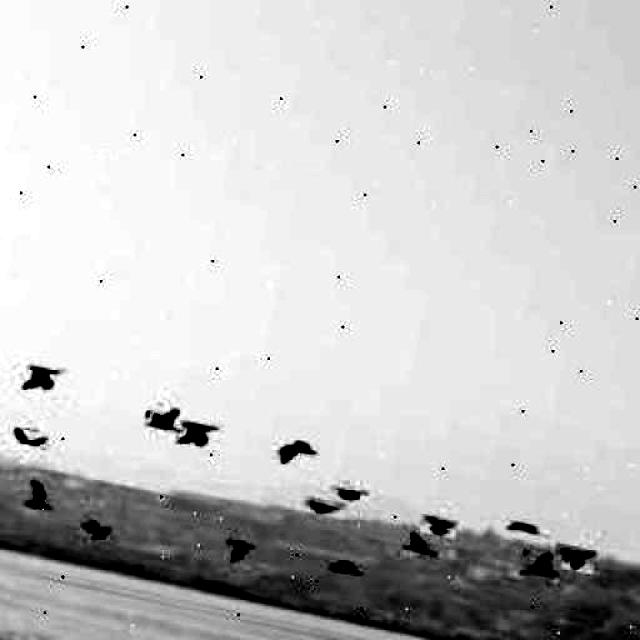airplane: (16, 359, 68, 399), (174, 416, 224, 452), (271, 435, 319, 471), (519, 548, 562, 584), (142, 402, 189, 434), (550, 542, 596, 574), (21, 479, 61, 512), (401, 529, 441, 559), (220, 535, 256, 568), (300, 495, 346, 519), (419, 514, 459, 540), (329, 480, 371, 504), (505, 519, 548, 539), (10, 426, 48, 448), (76, 518, 110, 541), (328, 556, 364, 574)
